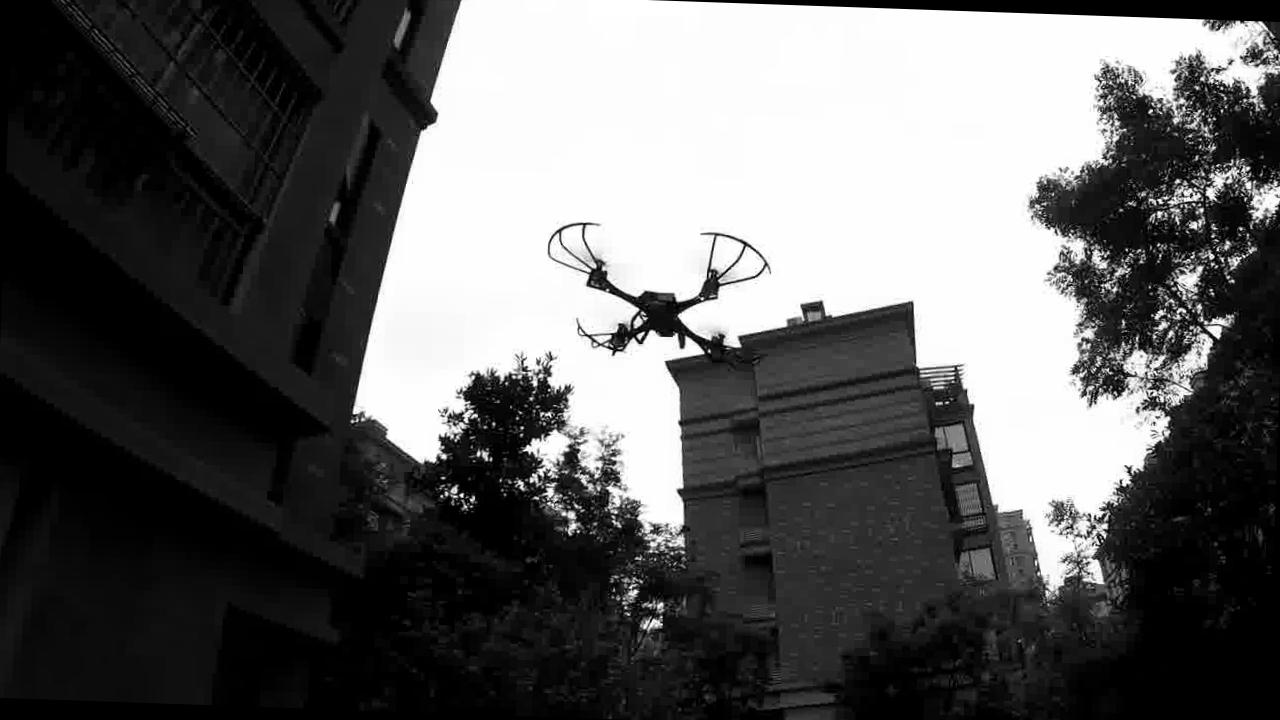drone: (526, 194, 778, 384)
